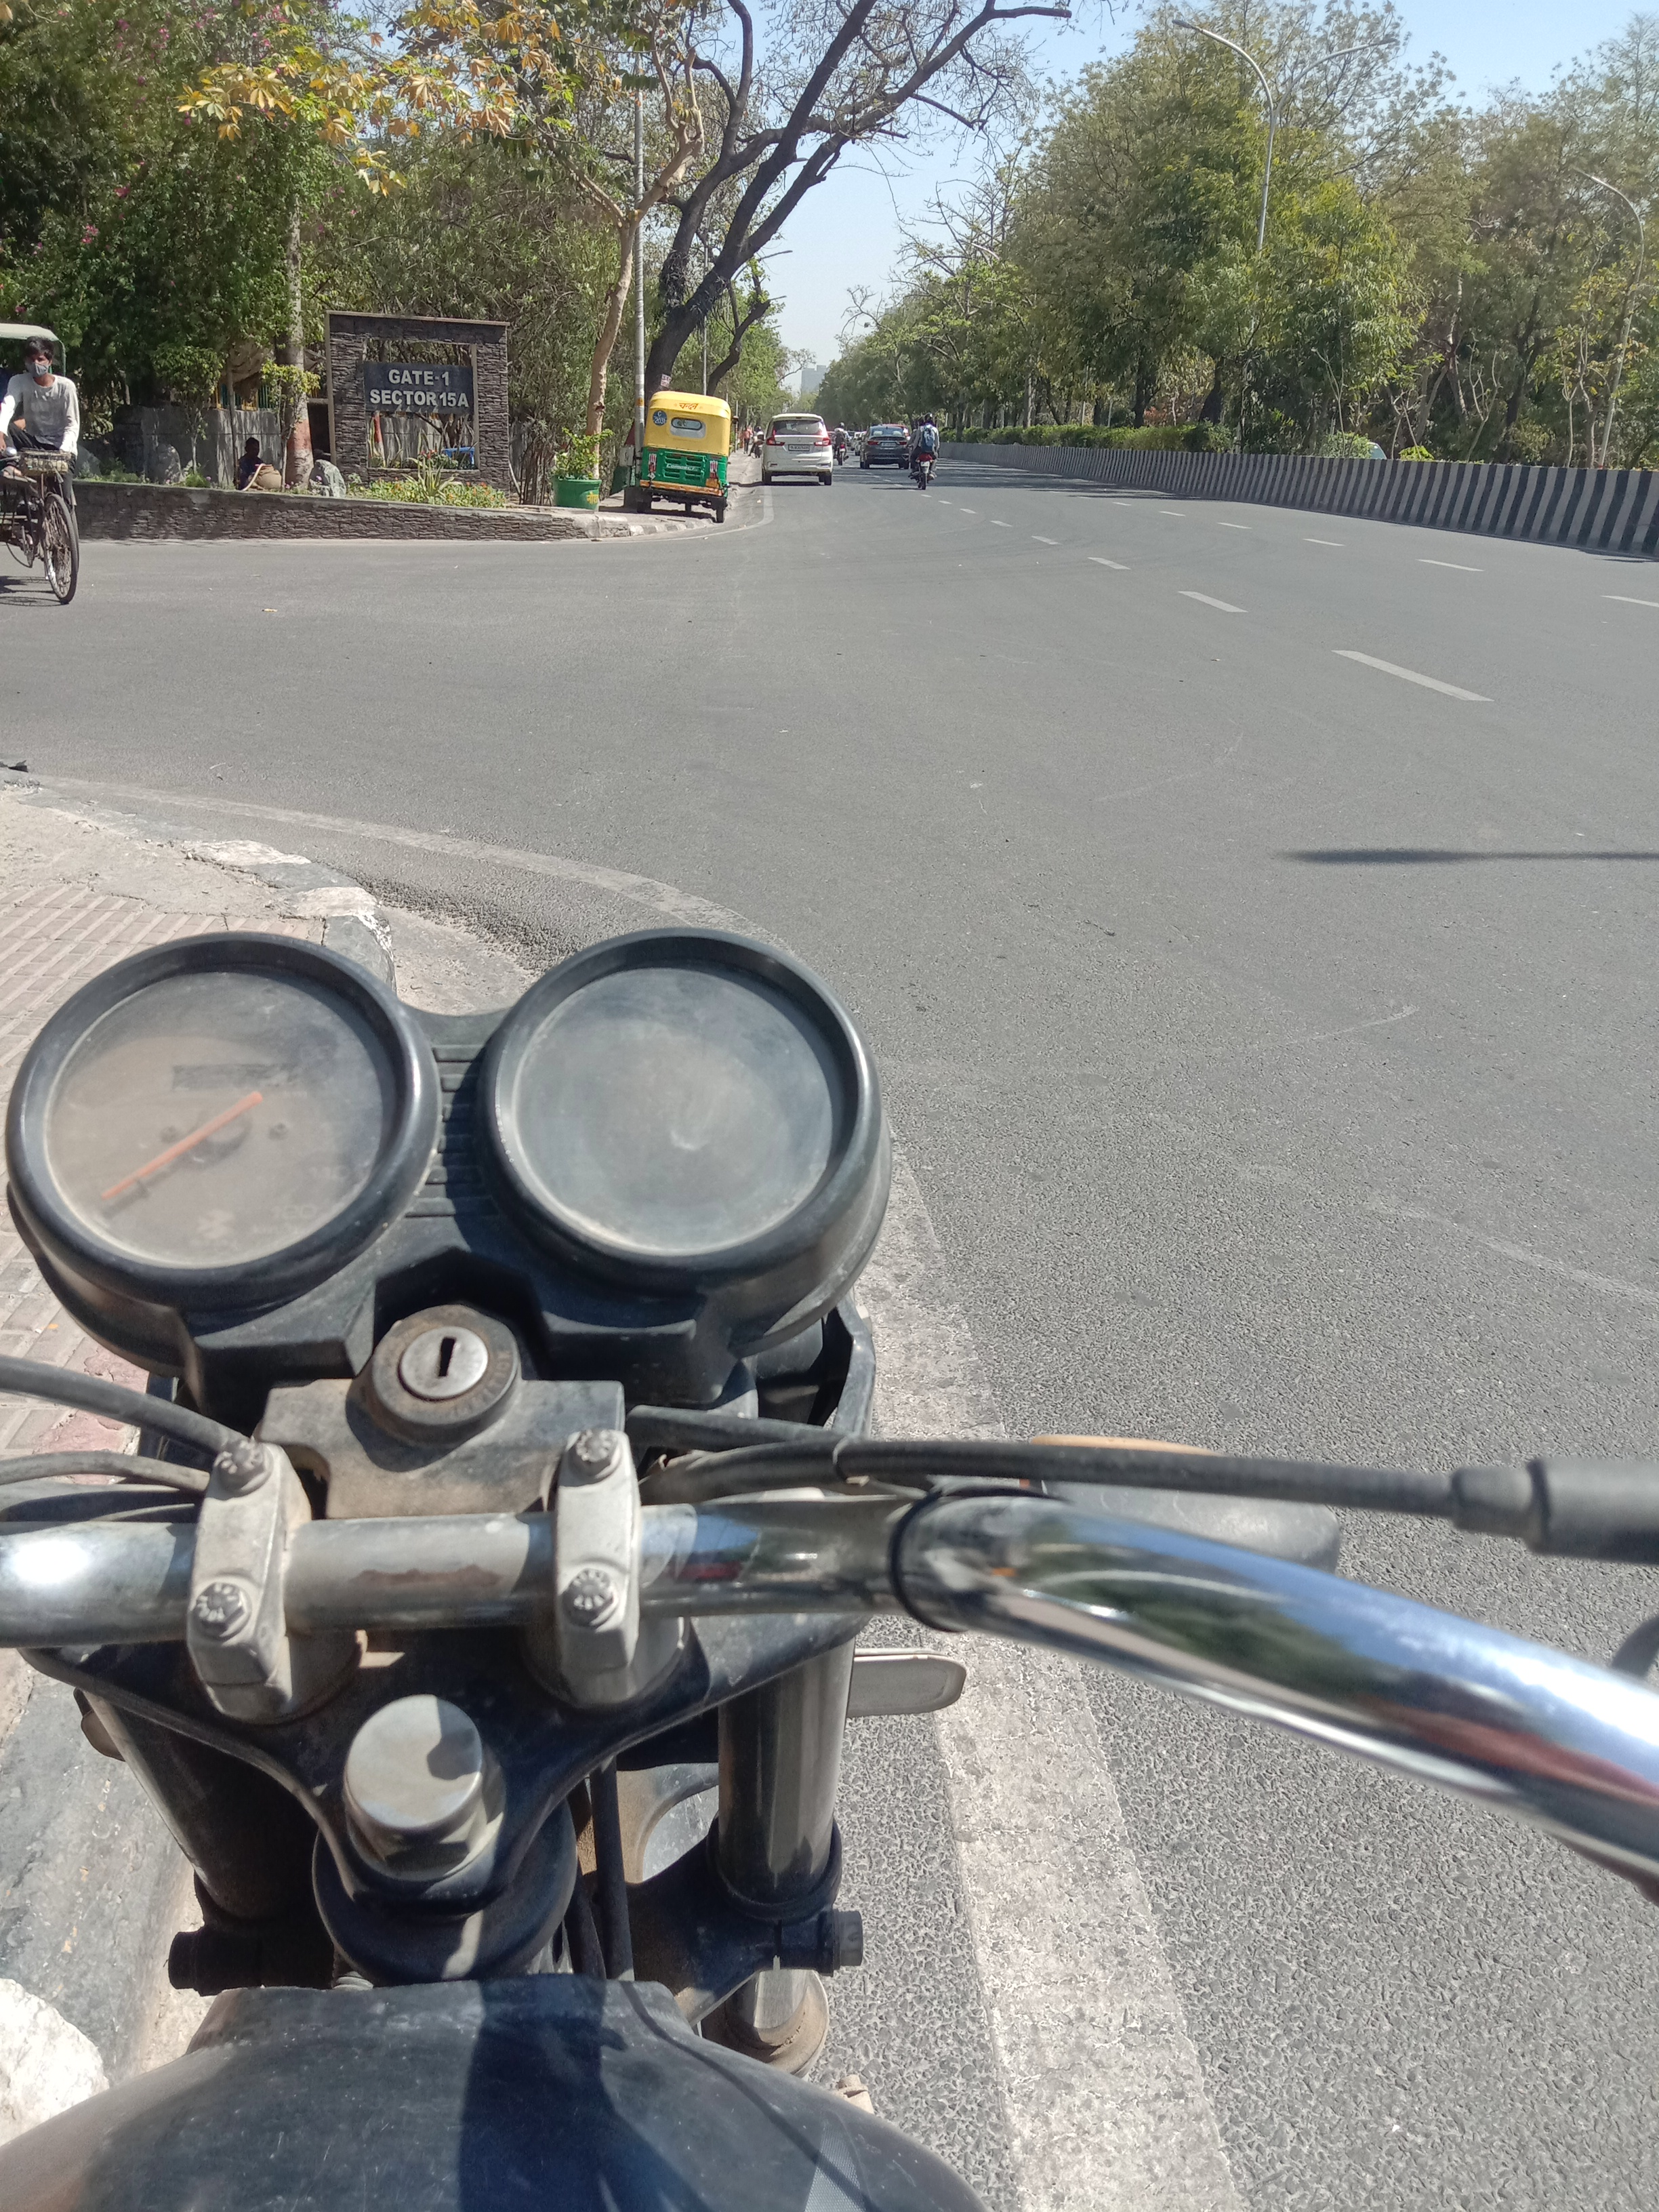auto: (636, 390, 730, 523)
car: (762, 413, 833, 484), (859, 423, 910, 469)
two_wheelers: (908, 446, 936, 489), (833, 439, 849, 465)
